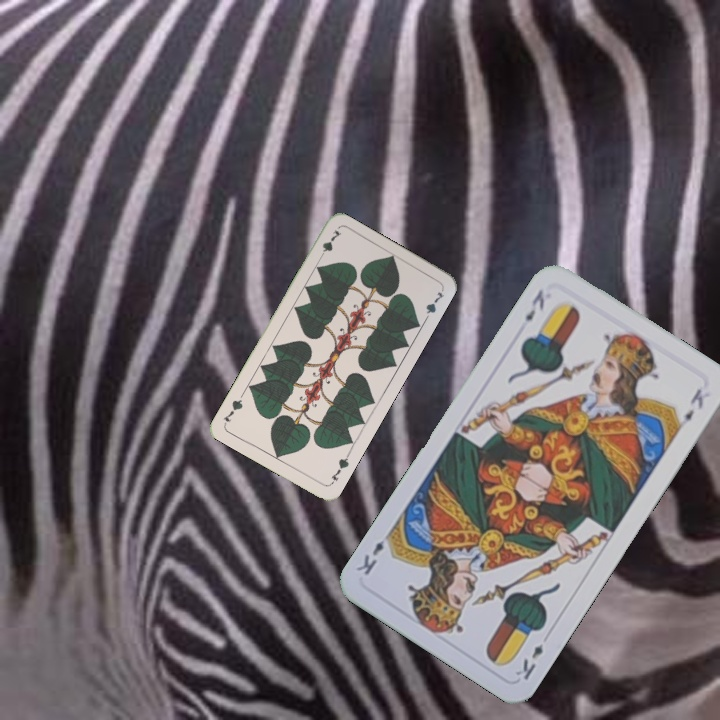EK: (511, 640, 546, 683), (520, 285, 547, 324)
G7: (314, 225, 344, 263), (326, 450, 352, 487)
